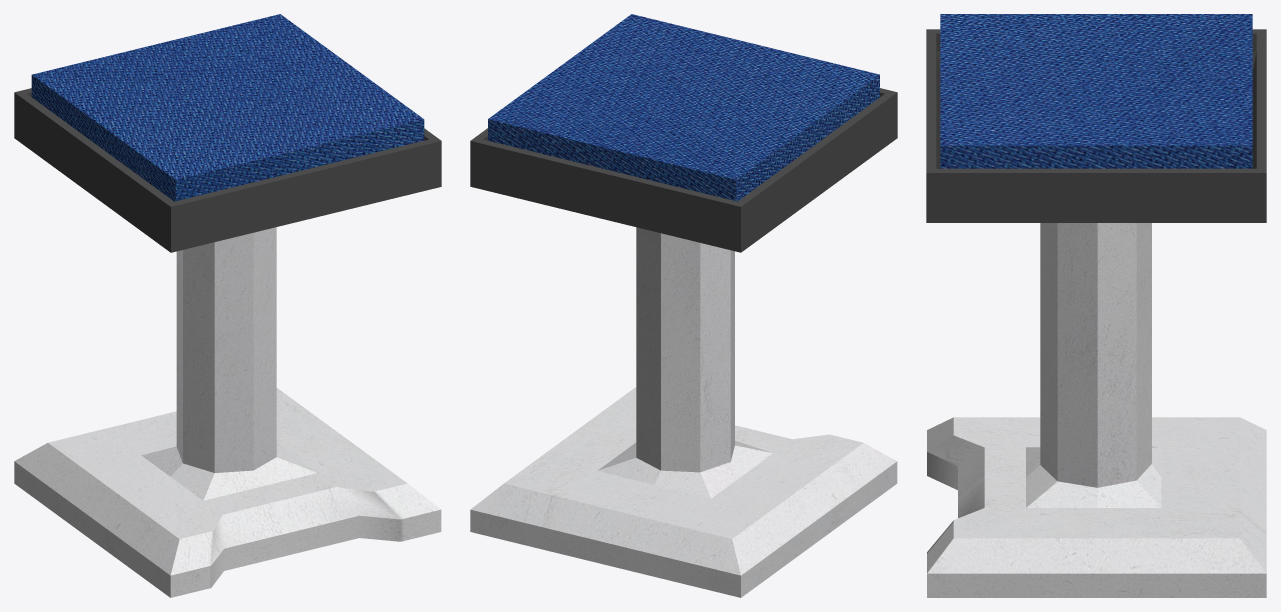
Rendered from Stool.fbx.
The picture shows the model from 3 angles, left to right: view 1: azimuth 30°, elevation 25°; view 2: azimuth 150°, elevation 25°; view 3: azimuth 270°, elevation 25°; orthographic projection. The views are drawn at different scales.
Visible parts, largest first — view 1: StoolFoot, StoolSeat; view 2: StoolFoot, StoolSeat; view 3: StoolFoot, StoolSeat.
Boxes of the visible parts, x1,y1,x2,y2 form: StoolFoot: (14, 227, 441, 597); StoolSeat: (14, 14, 441, 252); StoolFoot: (470, 227, 897, 597); StoolSeat: (470, 14, 897, 252); StoolFoot: (927, 223, 1266, 597); StoolSeat: (926, 14, 1266, 222).
Bounding box in the file's own units: 12.11 × 17.55 × 12.13.
Materials: 3 (2 with a texture image).
